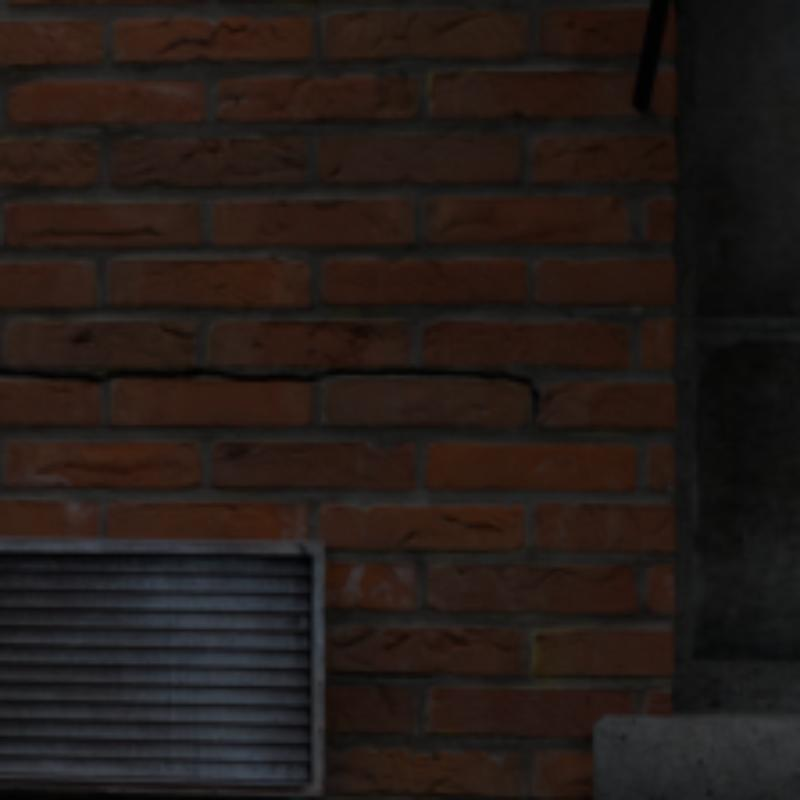pothole: (0, 368, 539, 418)
